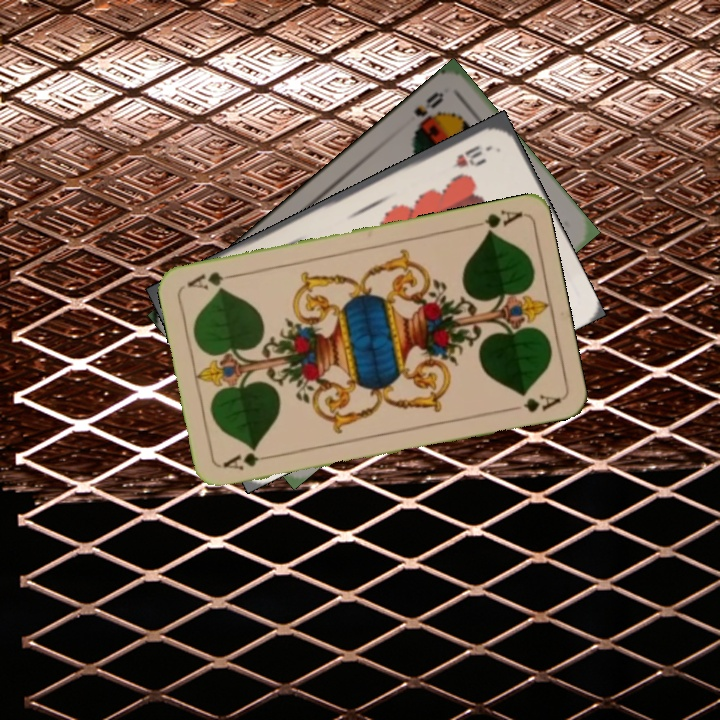GA: (465, 206, 524, 237), (219, 446, 277, 473)
H10: (447, 141, 485, 172)
SO: (409, 87, 447, 135)
